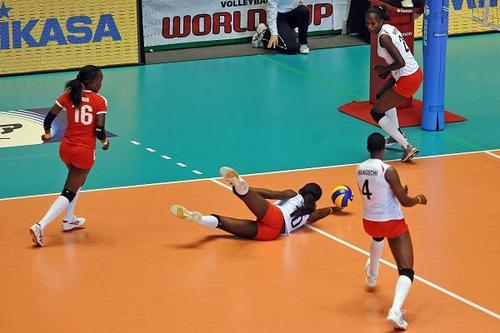bending: (354, 3, 427, 164)
down: (167, 164, 345, 245)
up: (26, 62, 112, 249), (352, 133, 424, 330)
